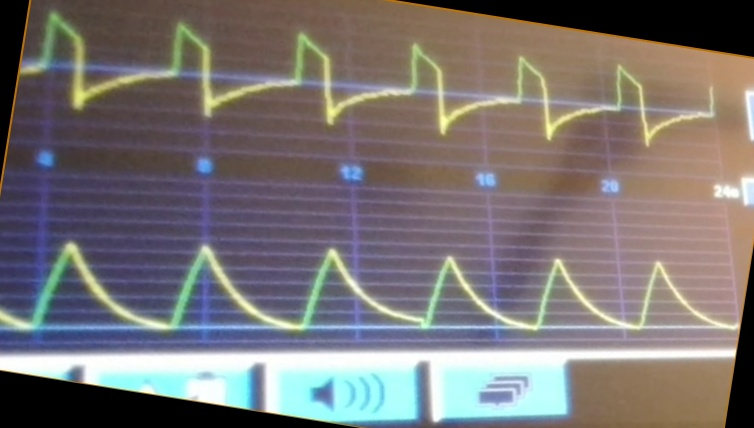Normal Flow: (28, 8, 715, 151)
Normal Volume: (1, 224, 735, 339)
